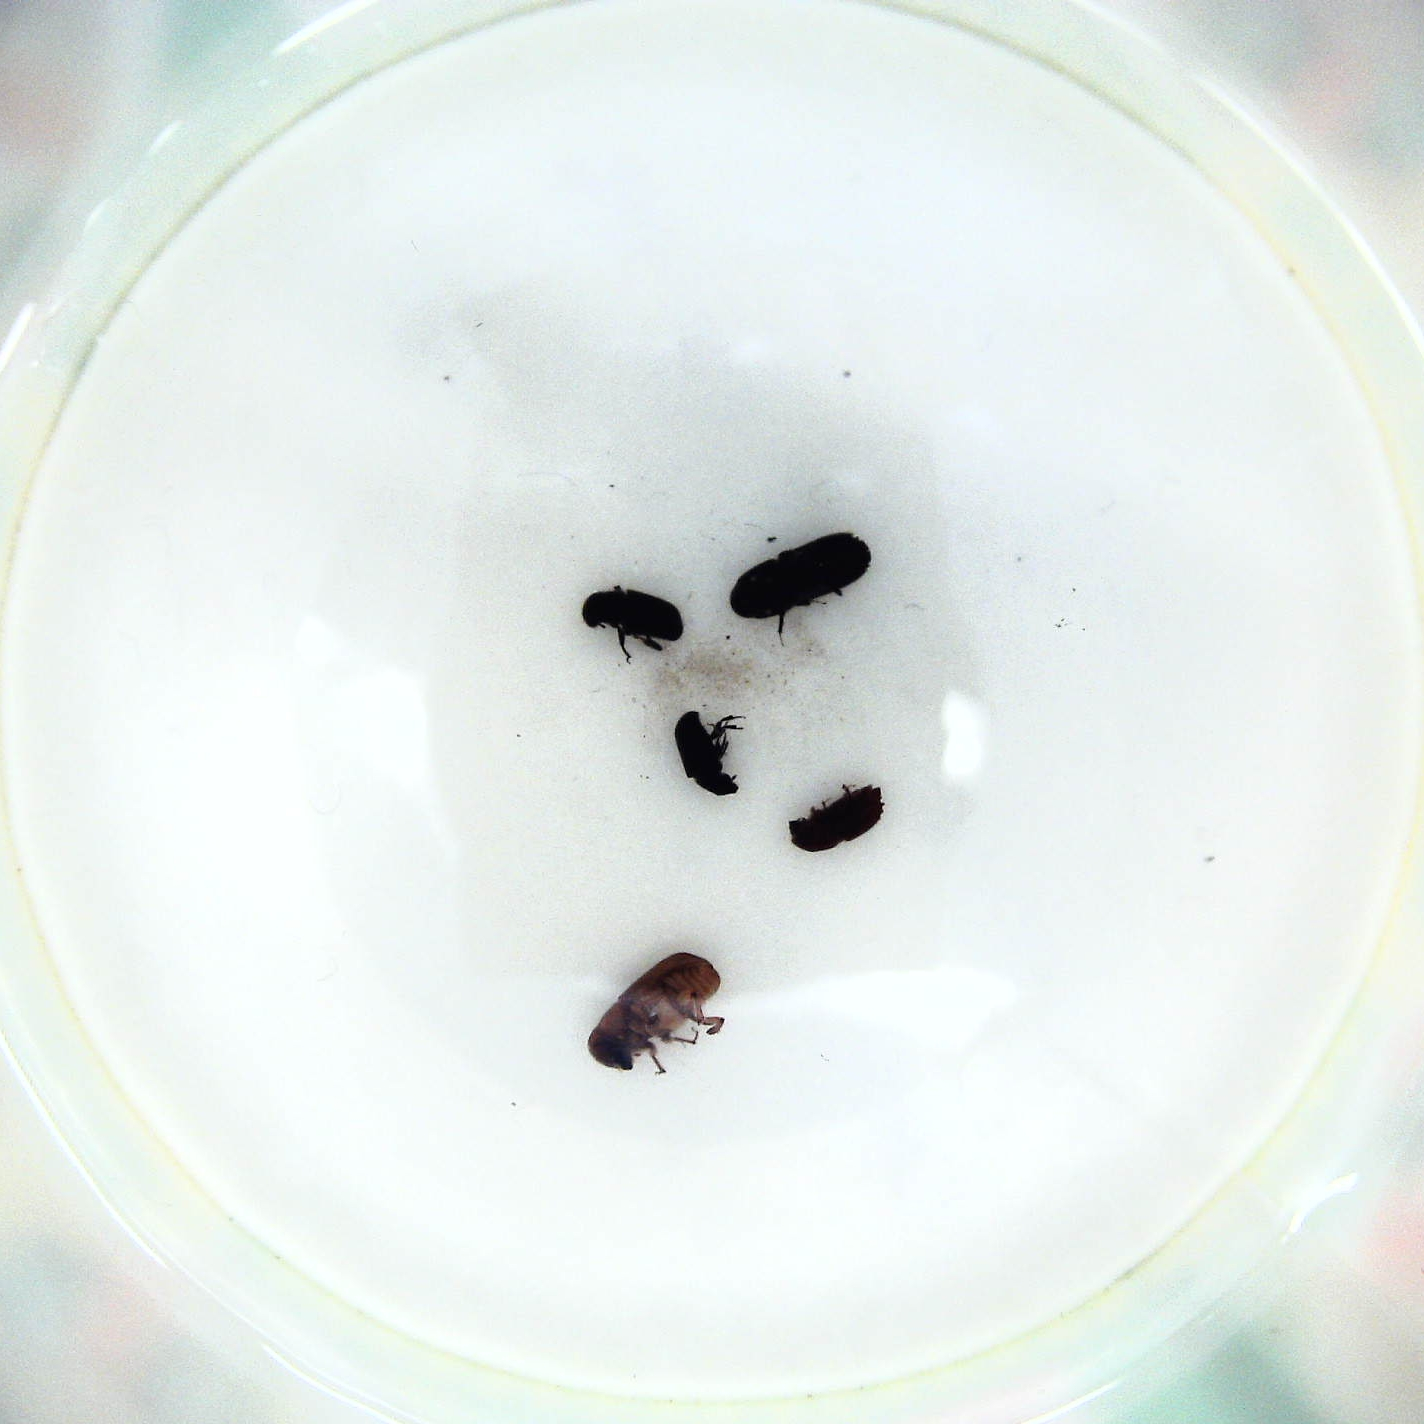Boerner: (729, 531, 876, 631)
Leconte: (586, 953, 732, 1078)
armandi: (578, 580, 692, 662)
coleoptera: (668, 704, 749, 799)
linnaeus: (784, 781, 896, 854)
